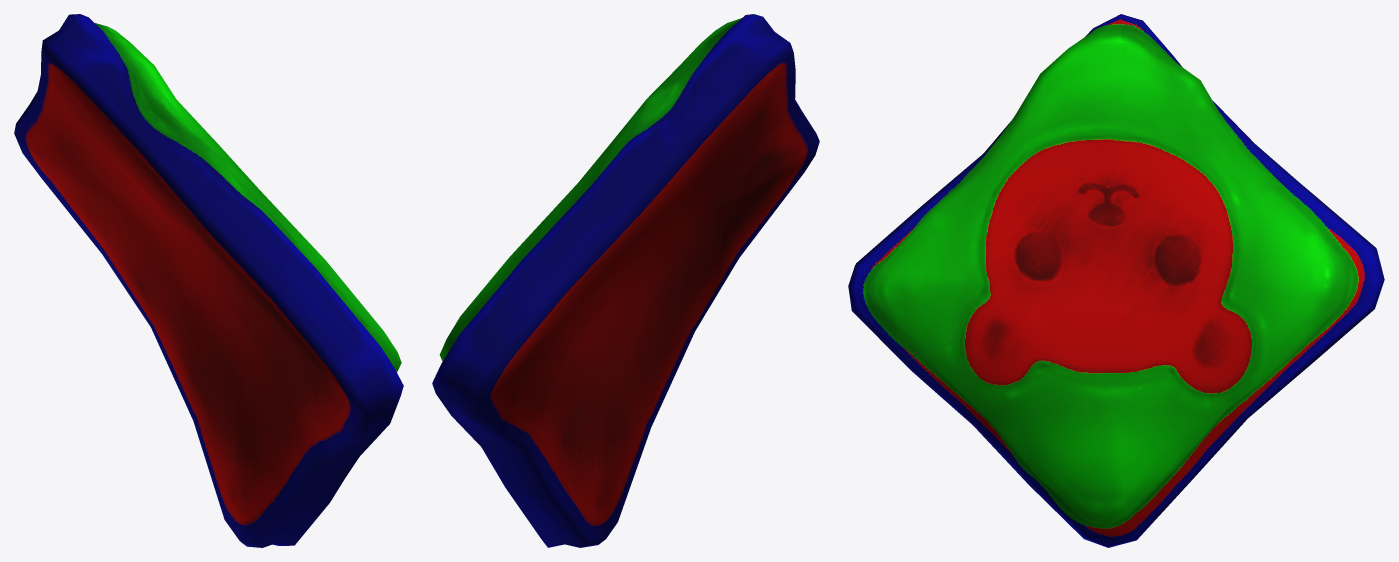
3 views of the same model, side by side, from view 1: azimuth 30°, elevation 25°; view 2: azimuth 150°, elevation 25°; view 3: azimuth 270°, elevation 25° (orthographic). The views are drawn at different scales.
Parts seen in each view (by area): view 1: F1269; view 2: F1269; view 3: F1269.
Part boxes in pixels (box(x1,y1,x2,y2)): F1269: box(14, 14, 403, 547); F1269: box(432, 14, 819, 547); F1269: box(848, 14, 1384, 547).
Size of the model in its own units: 0.1354 by 0.2992 by 0.3174.
